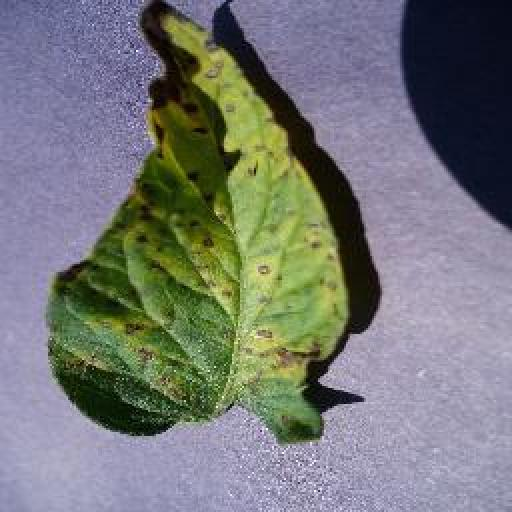Septoria: (49, 1, 352, 448)
